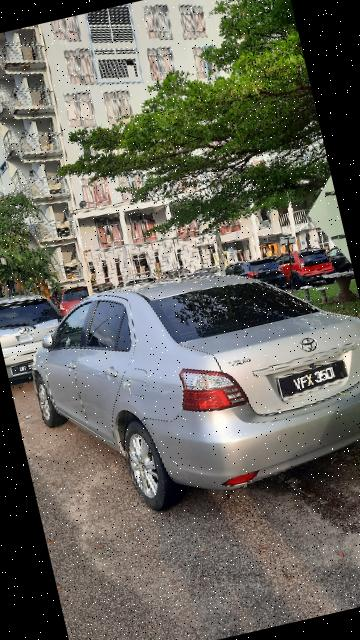License_Plate: (275, 352, 358, 399)
car: (20, 235, 360, 532)
